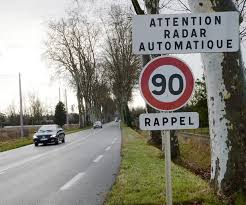Speed_limit_90km: (139, 56, 194, 111)
car: (31, 121, 68, 147)
